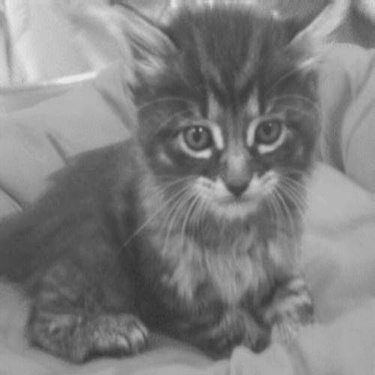cat: (7, 1, 348, 363)
